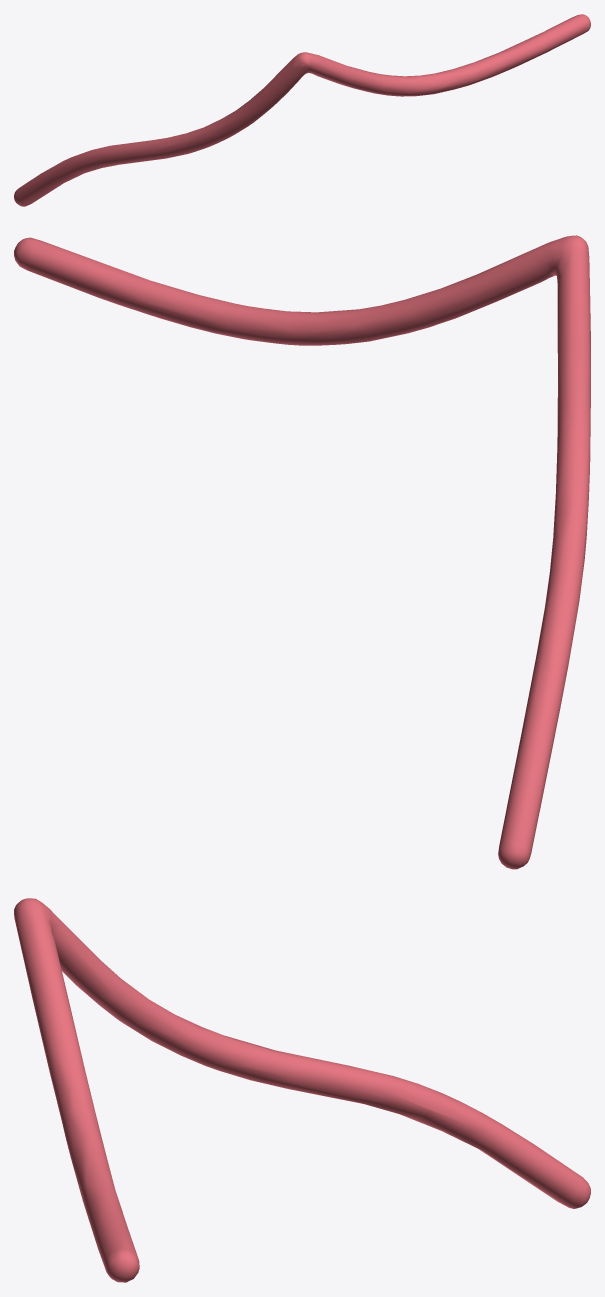
The model's file is fma44883_fj2129.glb.
The picture shows the model from 3 angles, top to bottom: view 1: azimuth 30°, elevation 25°; view 2: azimuth 150°, elevation 25°; view 3: azimuth 270°, elevation 25°; orthographic projection. The views are drawn at different scales.
Visible parts, largest first — view 1: FMA44883_FJ2129; view 2: FMA44883_FJ2129; view 3: FMA44883_FJ2129.
Part boxes in pixels (x1,y1,x2,y2): FMA44883_FJ2129: [14, 14, 590, 206]; FMA44883_FJ2129: [14, 235, 590, 869]; FMA44883_FJ2129: [14, 898, 590, 1282].
Bounding box in the file's own units: 0.0448 × 0.0231 × 0.0294.
